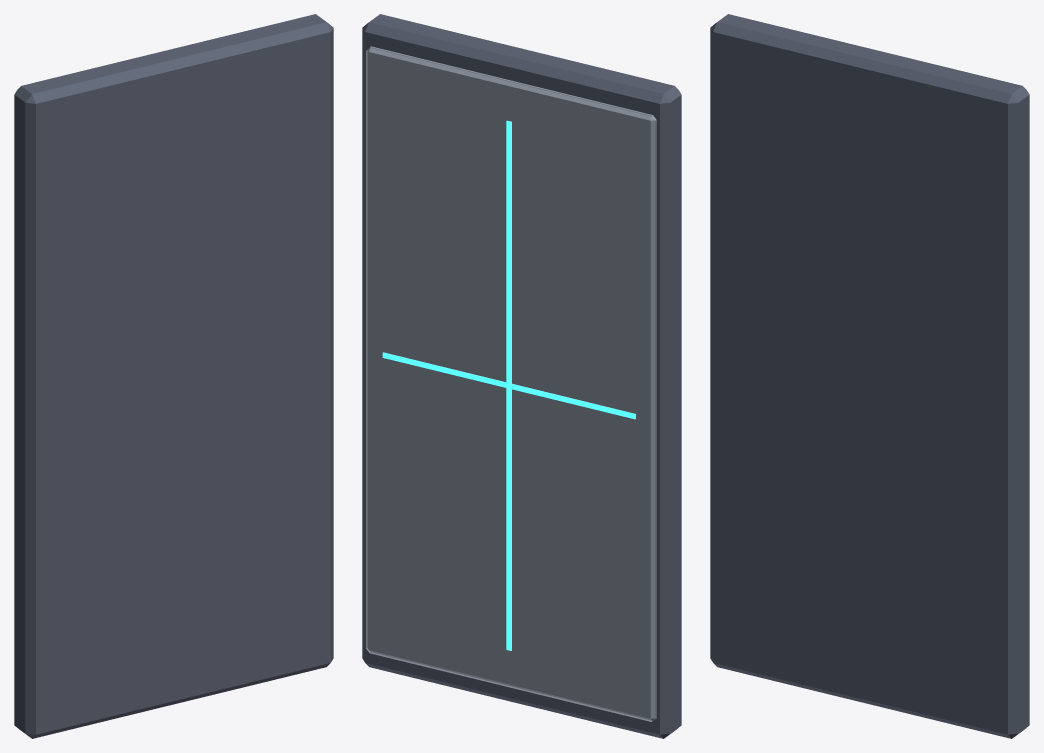
Rendered from platform_straight_long.glb.
The picture shows the model from 3 angles, left to right: view 1: azimuth 30°, elevation 25°; view 2: azimuth 150°, elevation 25°; view 3: azimuth 330°, elevation 25°; orthographic projection.
Parts seen in each view (by area): view 1: platform_straight_long; view 2: platform_straight_long; view 3: platform_straight_long.
Boxes of the visible parts, x1,y1,x2,y2 form: platform_straight_long: [14, 14, 333, 738]; platform_straight_long: [362, 14, 681, 738]; platform_straight_long: [710, 14, 1029, 738].
Size of the model in its own units: 3.2 by 6.4 by 0.406.
